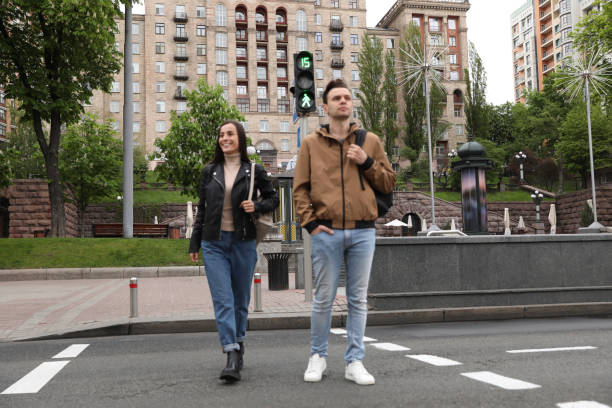yaya: (274, 76, 408, 383), (184, 119, 284, 397)
